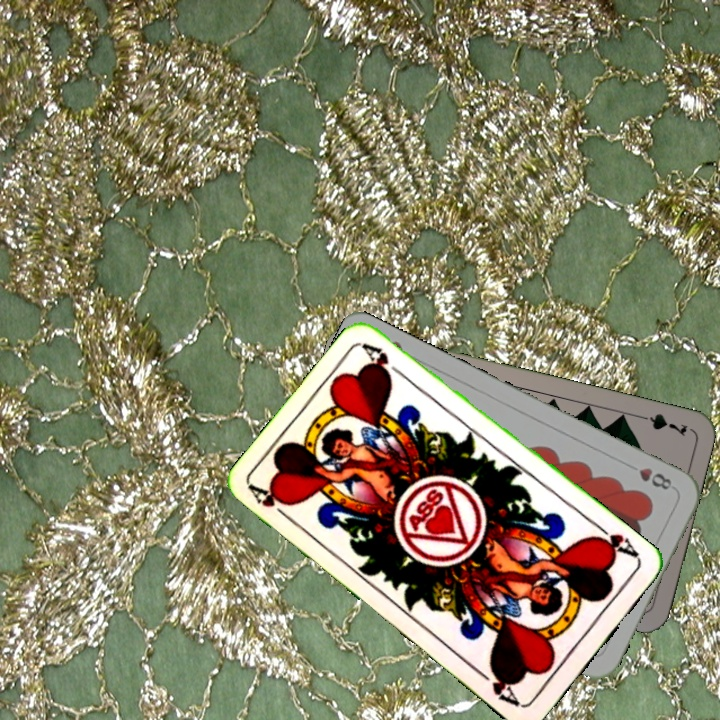G7: (632, 409, 690, 439)
H8: (634, 463, 675, 493)
HA: (588, 519, 642, 562), (246, 481, 297, 526)
